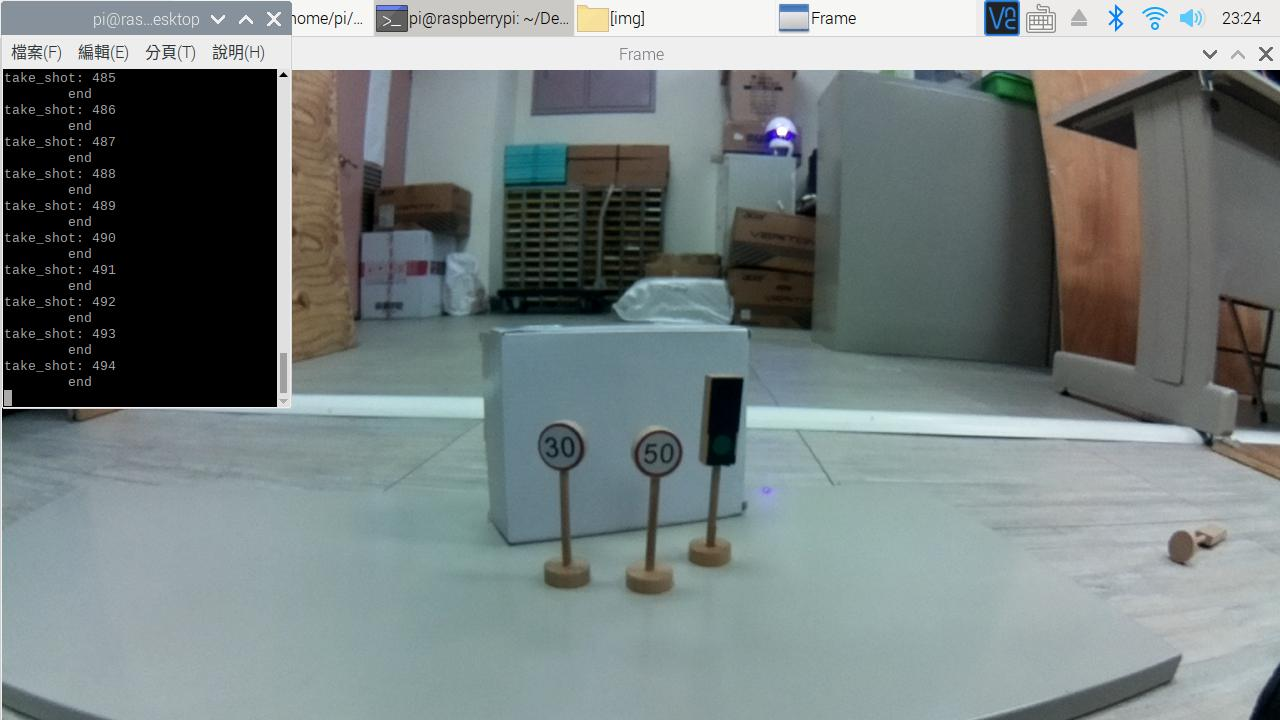Green: (696, 375, 756, 475)
Speed30: (530, 413, 591, 477)
Speed50: (624, 421, 686, 482)
